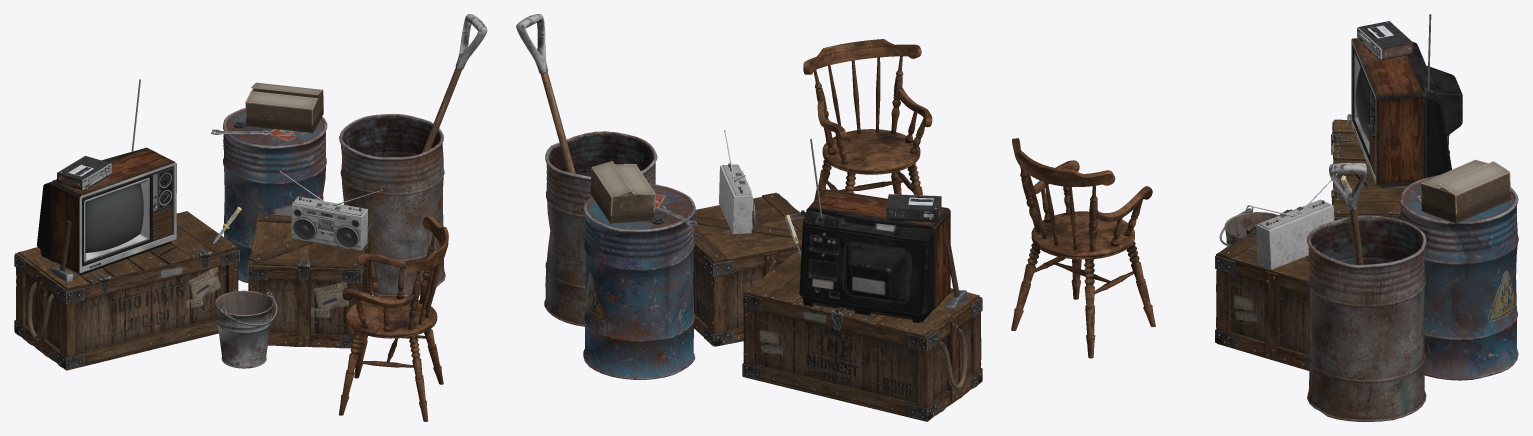
3 renders of one model, left to right at view 1: azimuth 30°, elevation 25°; view 2: azimuth 150°, elevation 25°; view 3: azimuth 270°, elevation 25°, orthographic. The views are drawn at different scales.
Visible parts, largest first — view 1: vedro_low.005, vedro_low.004, vedro_low.006, vedro_low.013, vedro_low.008, vedro_low.007, vedro_low.012, vedro_low.010, vedro_low.001, vedro_low.003, vedro_low.009, vedro_low.017 (+1 smaller); view 2: vedro_low.005, vedro_low.013, vedro_low.008, vedro_low.006, vedro_low.007, vedro_low.004, vedro_low.001, vedro_low.010, vedro_low.009, vedro_low.017, vedro_low.016; view 3: vedro_low.004, vedro_low.013, vedro_low.008, vedro_low.007, vedro_low.006, vedro_low.001, vedro_low.010, vedro_low.005, vedro_low.017, vedro_low.009, vedro_low.012, vedro_low.003.
Boxes of the visible parts, <box> form: vedro_low.005: <box>14,211,239,370</box>; vedro_low.004: <box>316,114,445,296</box>; vedro_low.006: <box>247,214,371,348</box>; vedro_low.013: <box>223,108,326,282</box>; vedro_low.008: <box>37,79,176,275</box>; vedro_low.007: <box>338,216,448,421</box>; vedro_low.012: <box>214,289,277,368</box>; vedro_low.010: <box>280,171,382,250</box>; vedro_low.001: <box>245,82,323,132</box>; vedro_low.003: <box>85,183,143,252</box>; vedro_low.009: <box>422,14,487,152</box>; vedro_low.017: <box>57,156,111,190</box>; vedro_low.005: <box>742,251,982,421</box>; vedro_low.013: <box>583,184,695,379</box>; vedro_low.008: <box>799,138,950,323</box>; vedro_low.006: <box>693,192,806,346</box>; vedro_low.007: <box>803,39,932,200</box>; vedro_low.004: <box>544,131,657,326</box>; vedro_low.001: <box>590,161,655,223</box>; vedro_low.010: <box>719,130,755,234</box>; vedro_low.009: <box>516,14,575,173</box>; vedro_low.017: <box>885,194,941,221</box>; vedro_low.016: <box>945,244,967,308</box>; vedro_low.004: <box>1307,207,1436,421</box>; vedro_low.013: <box>1399,175,1518,380</box>; vedro_low.008: <box>1351,14,1462,187</box>; vedro_low.007: <box>1011,138,1155,358</box>; vedro_low.006: <box>1215,209,1310,370</box>; vedro_low.001: <box>1420,159,1511,223</box>; vedro_low.010: <box>1247,173,1337,269</box>; vedro_low.005: <box>1331,119,1450,220</box>; vedro_low.017: <box>1357,21,1412,60</box>; vedro_low.009: <box>1329,162,1366,265</box>; vedro_low.012: <box>1219,205,1278,246</box>; vedro_low.003: <box>1355,67,1369,141</box>.
Bounding box in the file's own units: 2.86 × 1.56 × 2.6.
Materials: 2 (2 with a texture image).
